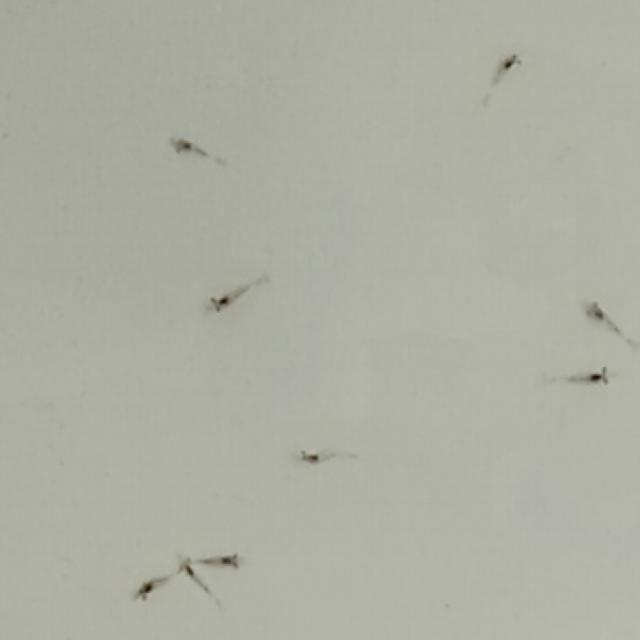shrimp-seed: (582, 294, 614, 328), (164, 130, 199, 160), (172, 550, 200, 581), (206, 288, 233, 320), (497, 48, 527, 76), (132, 573, 160, 603), (216, 548, 246, 574), (589, 359, 612, 391), (296, 444, 324, 468)
